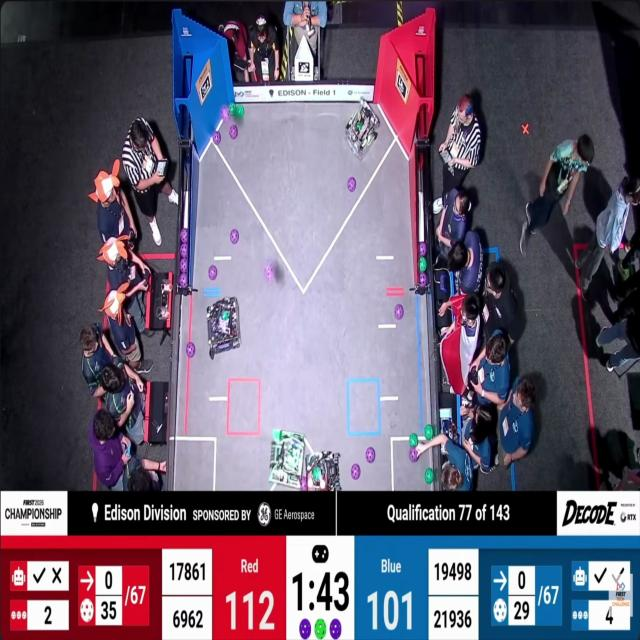artifact_green: (315, 619, 326, 639), (312, 466, 322, 483), (425, 468, 433, 484), (410, 448, 419, 462), (425, 425, 433, 440), (409, 434, 418, 447), (419, 257, 426, 272), (229, 103, 237, 116), (236, 105, 244, 118), (222, 311, 229, 321), (357, 122, 363, 131)
artifact_purple: (299, 619, 311, 639), (330, 619, 341, 639), (265, 264, 275, 281), (221, 105, 230, 122), (347, 177, 357, 192), (366, 447, 375, 463), (351, 464, 360, 480), (230, 229, 239, 244), (187, 342, 195, 358), (180, 242, 188, 258), (440, 275, 447, 293), (209, 265, 217, 280), (395, 304, 403, 319), (180, 258, 188, 273), (410, 448, 418, 462), (179, 273, 187, 287), (300, 475, 307, 491), (419, 242, 427, 256), (419, 273, 427, 286), (230, 126, 238, 139), (213, 131, 221, 144), (181, 229, 188, 243)
